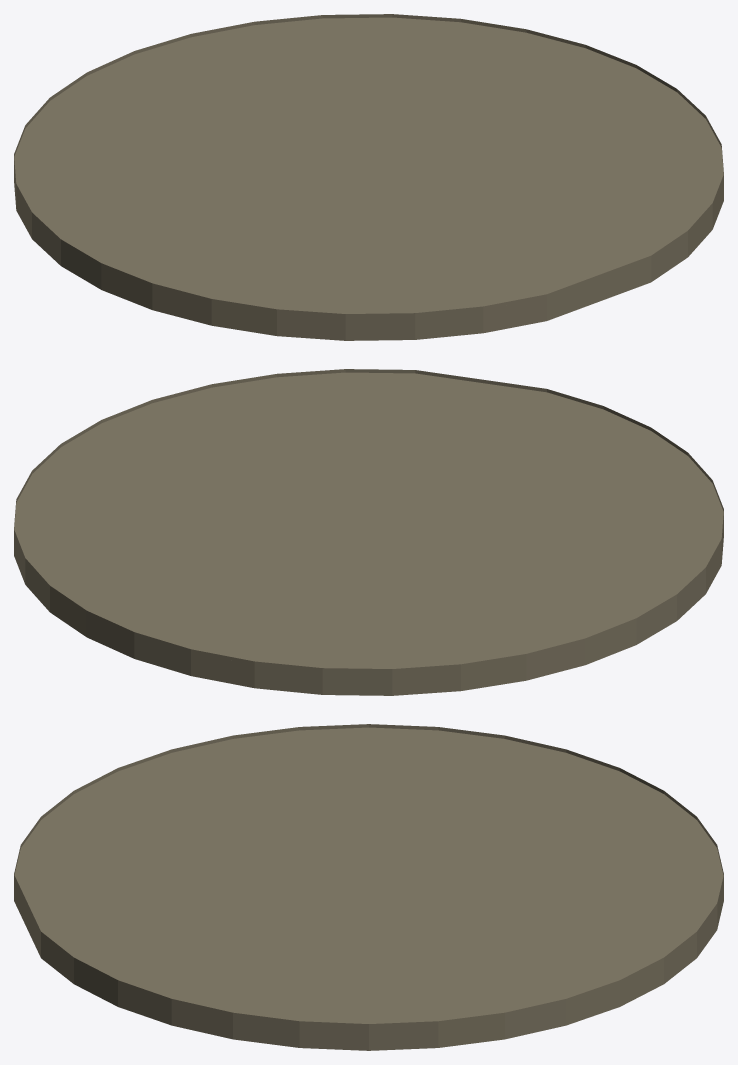
File: ground.glb
3 renders of one model, top to bottom at view 1: azimuth 30°, elevation 25°; view 2: azimuth 150°, elevation 25°; view 3: azimuth 270°, elevation 25°, orthographic.
Parts seen in each view (by area): view 1: Perimeter; view 2: Perimeter; view 3: Perimeter.
Part boxes in pixels (x1,y1,x2,y2): Perimeter: (14, 14, 723, 340); Perimeter: (14, 369, 723, 695); Perimeter: (14, 724, 723, 1050).
Bounding box in the file's own units: 134 × 5.57 × 134.
